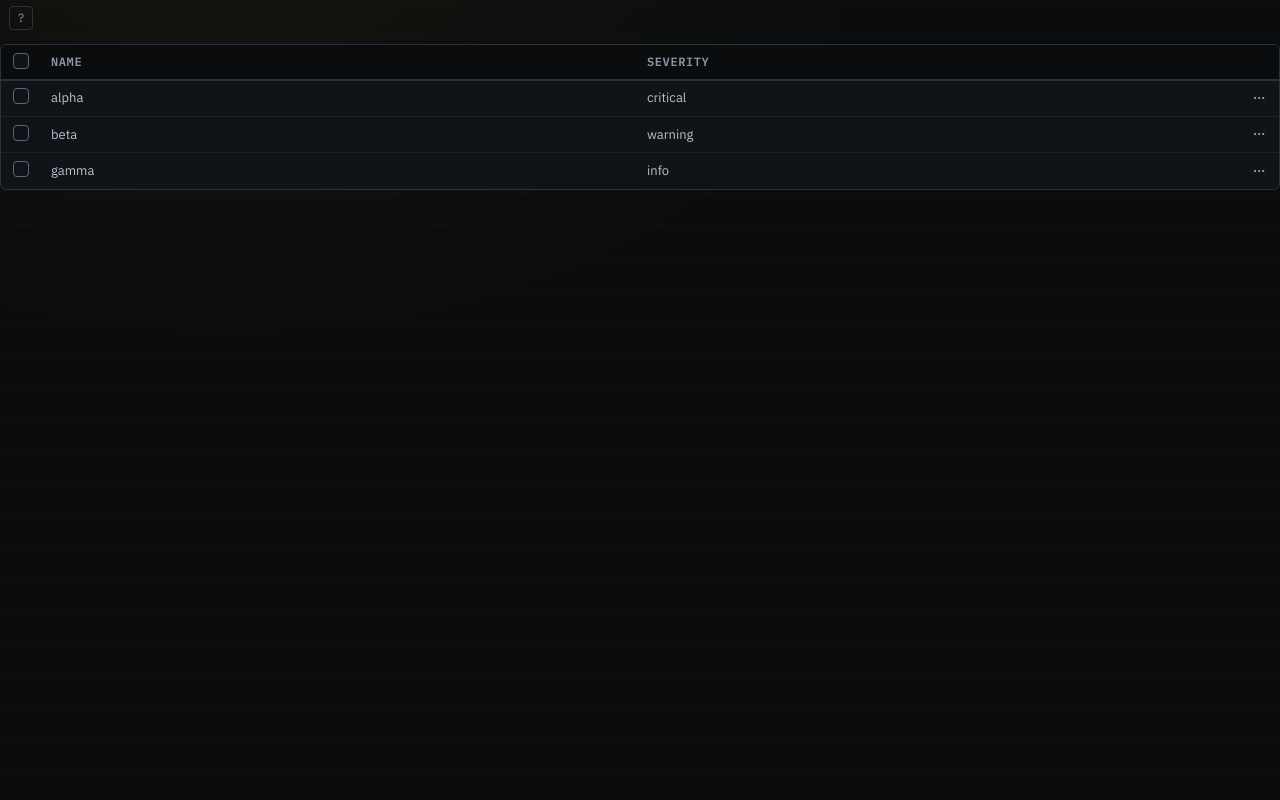
Scenario: DataTable › exposes a keyboard-shortcuts legend when keyboardHints are provided
Click the button named "keyboard shortcuts". click: {"x": 21, "y": 18}
box: [9,6,33,30]
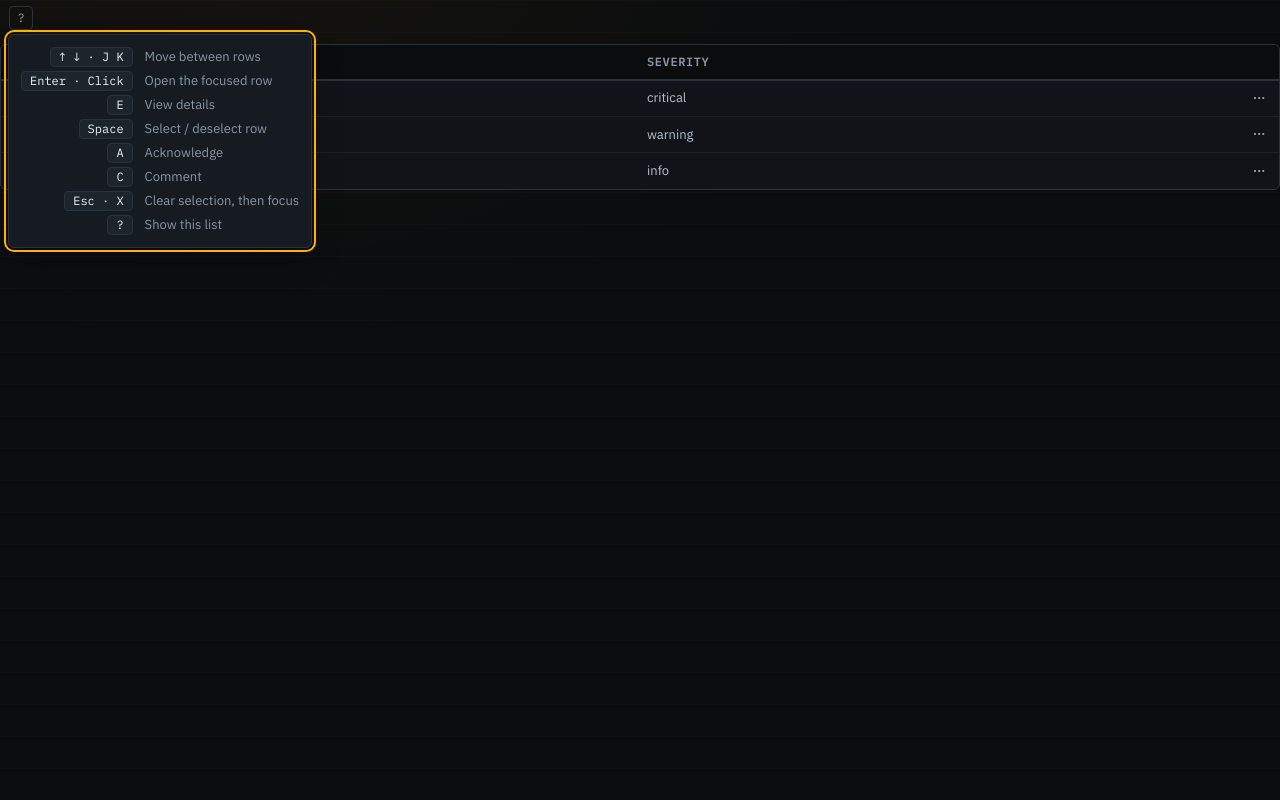
Check: the text "Move between rows" is shown, box [145,48,261,65]
Check: the text "Select / deselect row" is shown, box [145,120,267,137]
Check: the text "View details" is shown, box [145,96,215,113]
